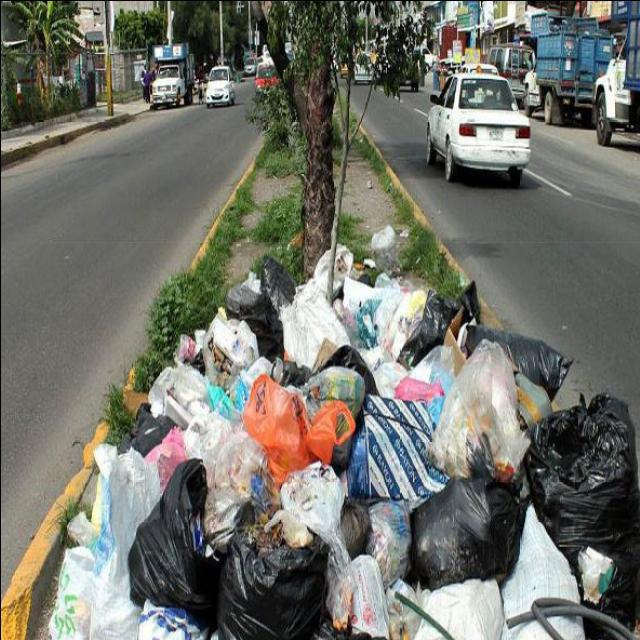plastik: (527, 392, 640, 623), (127, 457, 219, 623), (428, 338, 529, 482), (90, 444, 161, 640), (411, 476, 524, 588), (242, 372, 355, 483), (219, 526, 325, 640), (182, 411, 263, 550), (465, 324, 569, 399), (224, 255, 294, 359), (325, 553, 388, 638), (279, 460, 344, 542), (48, 545, 93, 640)
